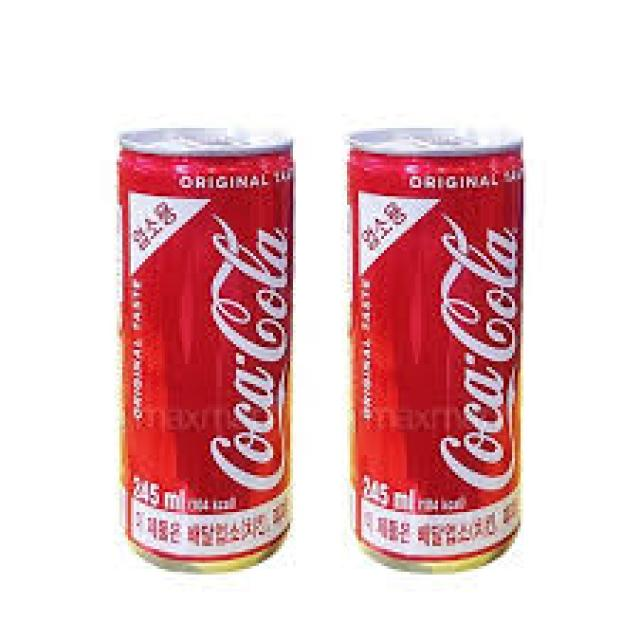Coca-Cola: (334, 121, 528, 584), (109, 119, 302, 576)
